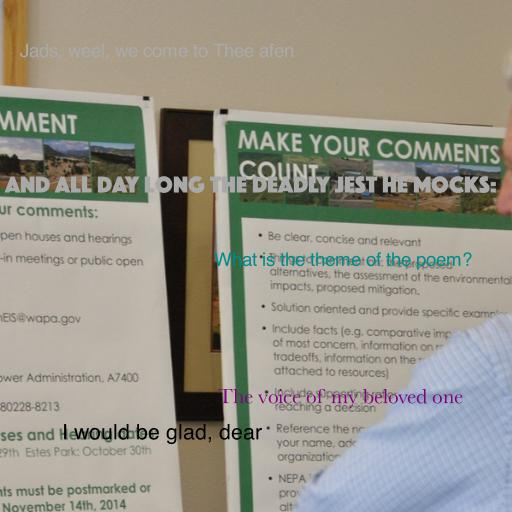Apple Chancery: (214, 252, 472, 270)
Baskerville: (217, 388, 463, 409)
Phosphate: (5, 176, 497, 193)
SF Pro: (20, 43, 294, 60), (62, 424, 262, 445)
